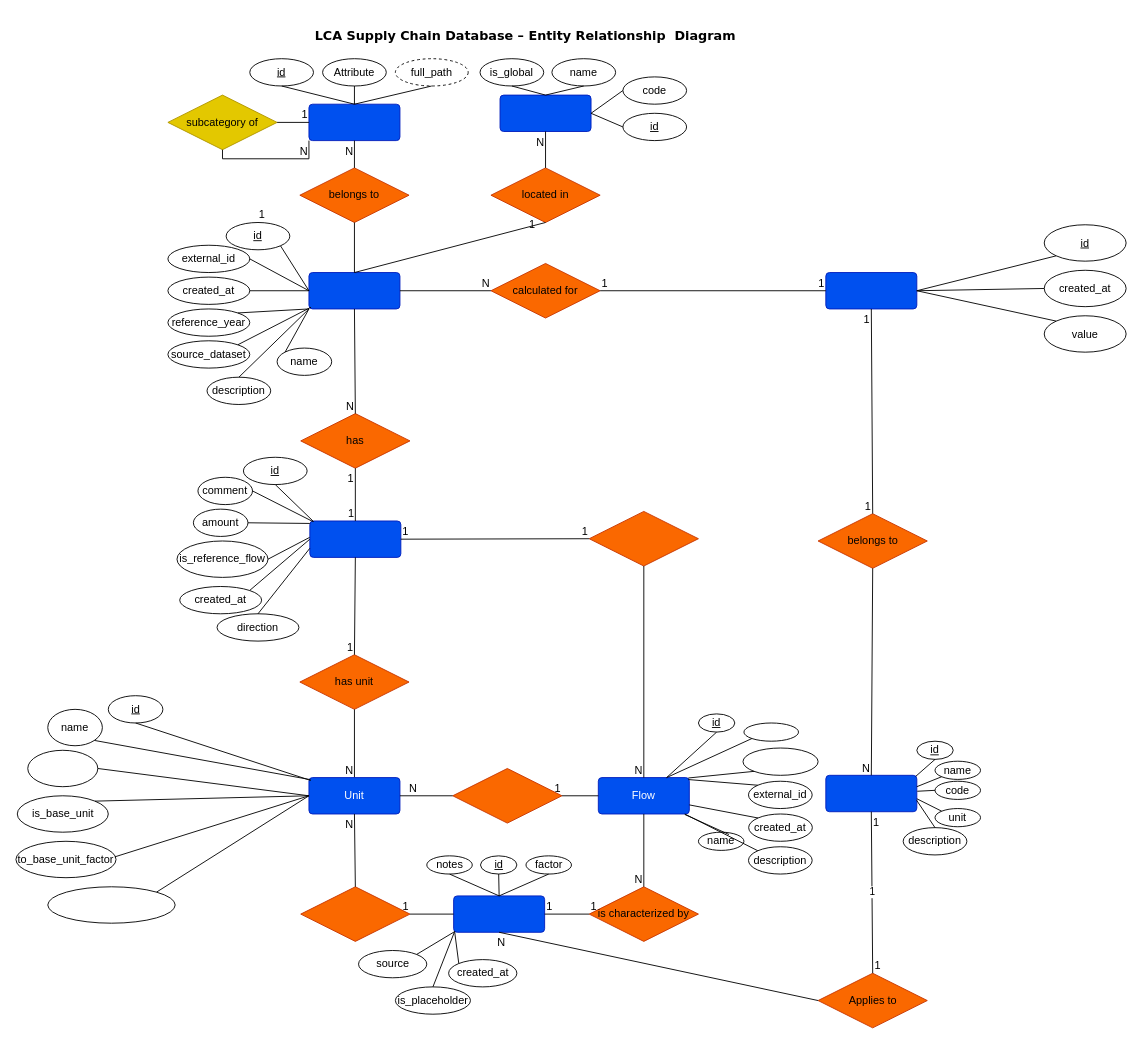
The diagram is 1142 pixels wide and 1044 high, and some of its shapes have lost their labels. Here are the shapes that lost their labels. From the top down, the centre of each, then its label:
(x=354, y=122): Category
(x=545, y=112): Geography
(x=354, y=290): Process
(x=871, y=290): Impact Result
(x=355, y=538): Exchange
(x=643, y=538): includes
(x=771, y=731): flow_type
(x=62, y=768): dimension
(x=780, y=761): cas_number
(x=507, y=795): measured in
(x=871, y=793): Impact Category
(x=111, y=904): unit_group_external_id
(x=355, y=913): expressed in
(x=499, y=913): Characterization Factor
